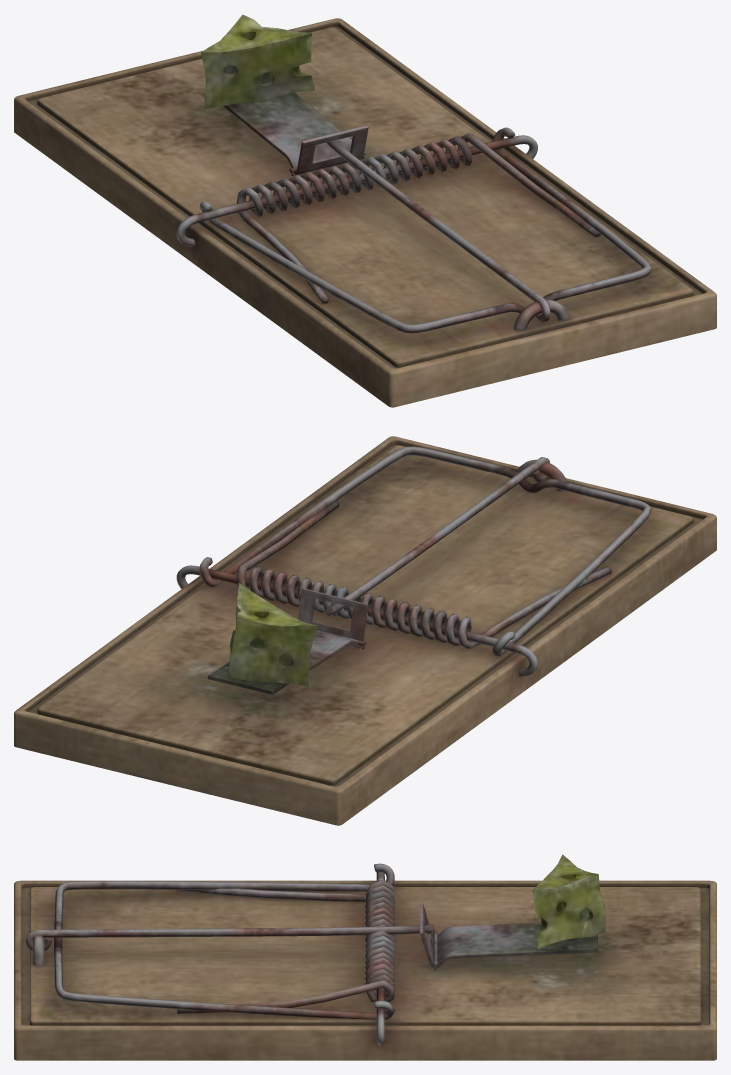
The model's file is mousetrap.gltf.
3 views of the same model, one above another, from view 1: azimuth 30°, elevation 25°; view 2: azimuth 150°, elevation 25°; view 3: azimuth 270°, elevation 25° (orthographic). The views are drawn at different scales.
Visible parts, largest first — view 1: mousetrap; view 2: mousetrap; view 3: mousetrap.
Boxes of the visible parts, x1,y1,x2,y2 form: mousetrap: (14,14,716,407); mousetrap: (14,436,716,825); mousetrap: (14,854,716,1060).
Bounding box in the file's own units: 0.055 × 0.0179 × 0.1004.
1 material, 1 textured.
